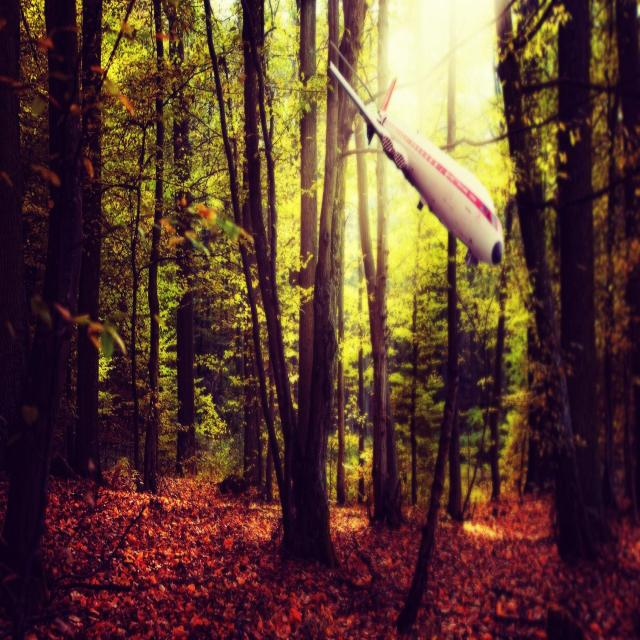airplane: (326, 59, 504, 268)
